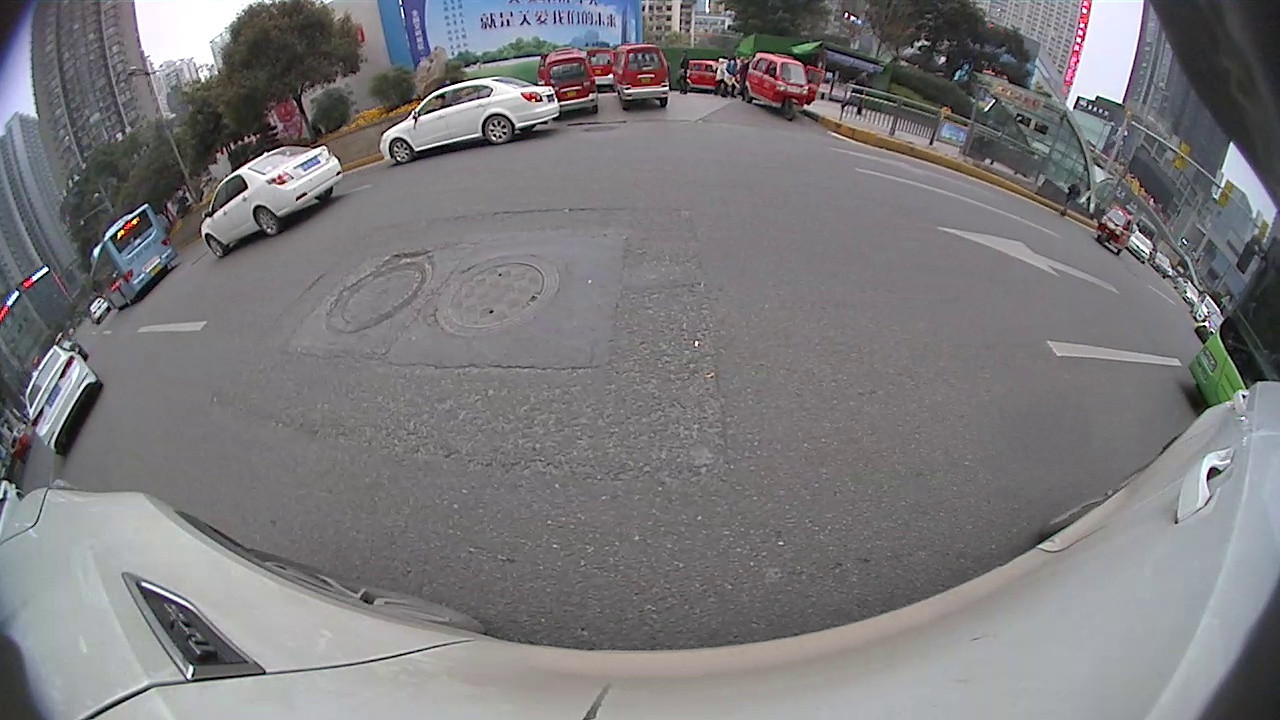bus: (1187, 224, 1278, 428), (87, 206, 179, 315)
car: (203, 144, 345, 260), (379, 76, 563, 164), (26, 343, 102, 458), (1125, 231, 1154, 262), (1193, 292, 1220, 325), (1197, 313, 1227, 342), (1174, 272, 1198, 302), (1150, 247, 1173, 276)
front: (387, 138, 417, 167), (205, 235, 232, 261)
rear: (484, 112, 517, 146), (253, 207, 283, 237)
rider: (748, 49, 811, 119), (535, 48, 598, 117), (613, 44, 670, 114), (1099, 203, 1133, 253), (588, 44, 615, 90), (686, 55, 718, 93)
